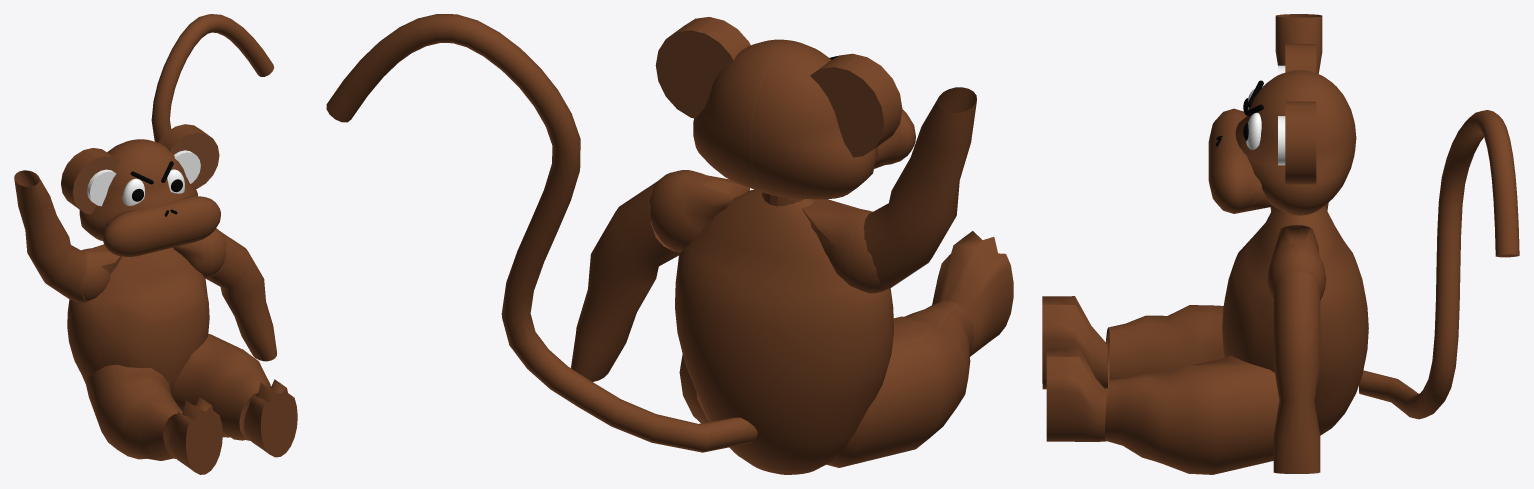
The model's file is monkeyV2.FBX.
3 views of the same model, side by side, from view 1: azimuth 30°, elevation 25°; view 2: azimuth 150°, elevation 25°; view 3: azimuth 270°, elevation 25° (orthographic). The views are drawn at different scales.
Parts seen in each view (by area): view 1: Line001, RightLeg001, Cylinder003, RightLeg002, Capsule002, Object018, Object002, RightFoot001, LeftFoot001, Cylinder006, Cylinder005, Object030 (+3 smaller); view 2: Line001, Object002, Cylinder003, RightLeg001, Object018, Cylinder006, RightFoot001, Cylinder005, Object030, Capsule002, RightLeg002; view 3: Line001, RightLeg002, Cylinder003, Object002, RightLeg001, LeftFoot001, Capsule002, RightFoot001, Cylinder005, Object018, Cylinder006.
Part boxes in pixels (box(x1,y1,x2,y2)): Line001: box(67, 14, 273, 393); RightLeg001: box(86, 364, 182, 460); Cylinder003: box(173, 228, 276, 361); RightLeg002: box(171, 334, 271, 440); Capsule002: box(103, 196, 220, 256); Object018: box(14, 170, 87, 300); Object002: box(79, 139, 197, 240); RightFoot001: box(169, 397, 222, 474); LeftFoot001: box(244, 379, 297, 457); Cylinder006: box(61, 148, 119, 214); Cylinder005: box(158, 124, 219, 189); Object030: box(73, 244, 119, 302); Line001: box(326, 14, 893, 474); Object002: box(693, 39, 877, 199); Cylinder003: box(571, 170, 749, 381); RightLeg001: box(826, 301, 973, 467); Object018: box(863, 87, 976, 289); Cylinder006: box(810, 53, 902, 157); RightFoot001: box(932, 231, 1013, 356); Cylinder005: box(655, 17, 750, 118); Object030: box(802, 199, 886, 293); Capsule002: box(874, 109, 915, 168); RightLeg002: box(679, 354, 709, 423); Line001: box(1222, 110, 1519, 435); RightLeg002: box(1105, 355, 1279, 474); Cylinder003: box(1267, 225, 1326, 473); Object002: box(1235, 70, 1356, 215); RightLeg001: box(1105, 305, 1224, 391); LeftFoot001: box(1046, 348, 1107, 441); Capsule002: box(1208, 108, 1273, 213); RightFoot001: box(1042, 296, 1107, 389); Cylinder005: box(1285, 101, 1316, 184); Object018: box(1275, 14, 1322, 73); Cylinder006: box(1285, 44, 1316, 72).
Size of the model in its own units: 137 by 123 by 129.
4 materials, 4 textured.
